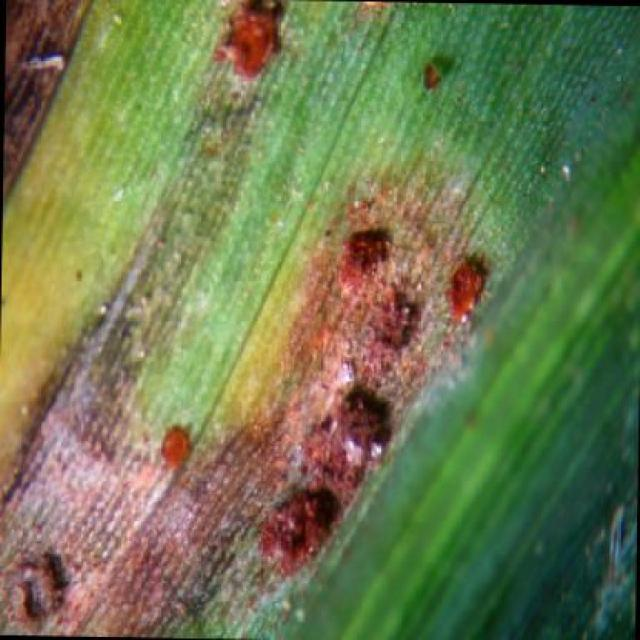Corn_Rust: (12, 1, 625, 632)
